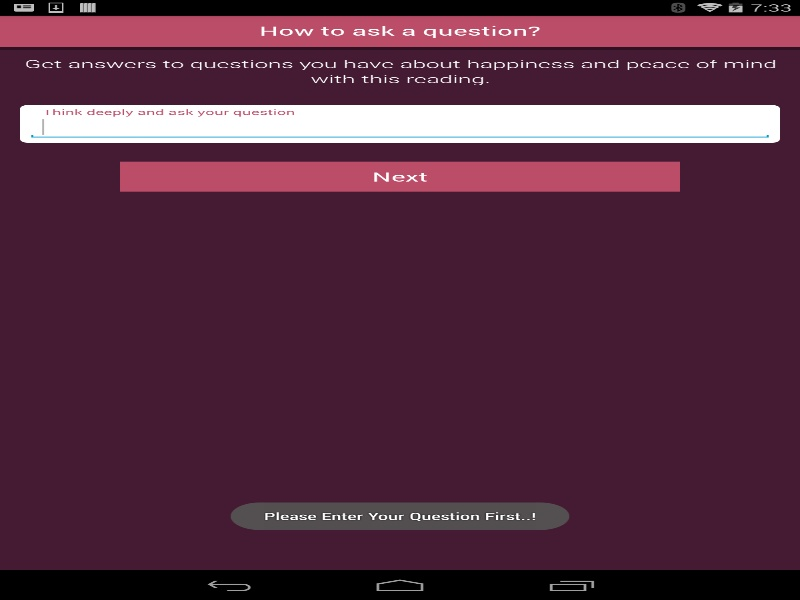Button: (0, 15, 800, 45), (120, 161, 680, 191), (0, 21, 46, 43)
Input: (26, 115, 773, 139)
